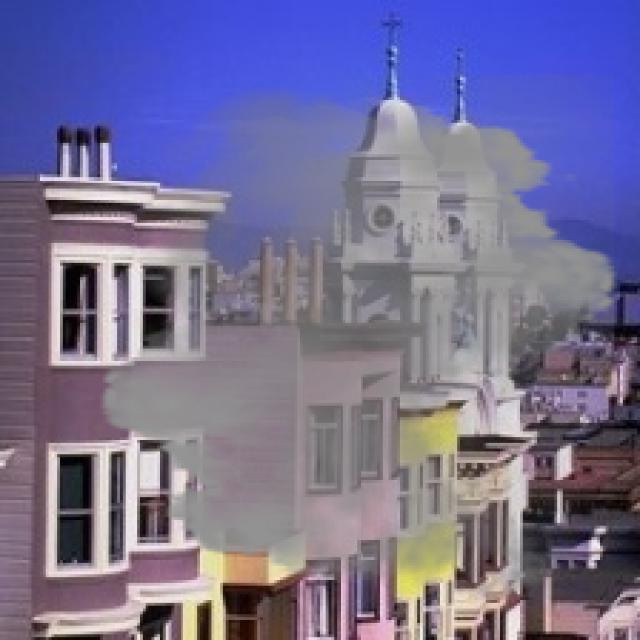Smoke: (82, 74, 634, 620)
